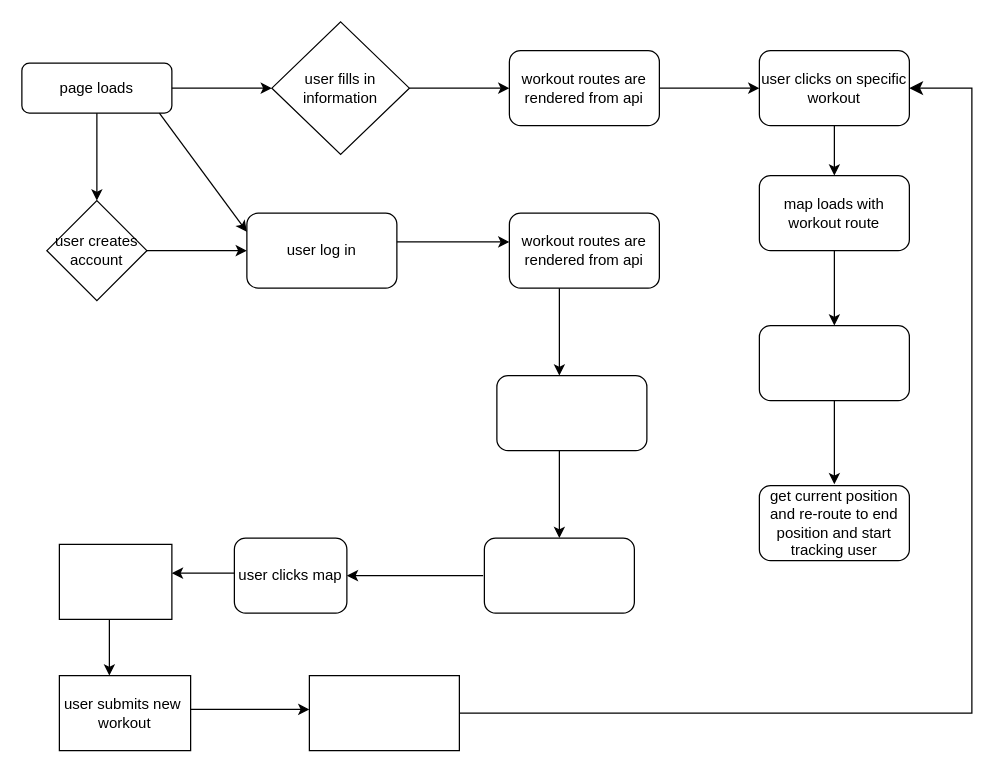
The diagram is 1006 pixels wide and 773 high, and some of its shapes have lost their labels. The centre of each missing label's shape, as x and y in pixels:
get current position of user and load map: the point at 558,575
render workout form: the point at 115,581
user clicks create workout: the point at 571,412
user clicks start: the point at 833,362
workout rendered on workout list: the point at 383,712
